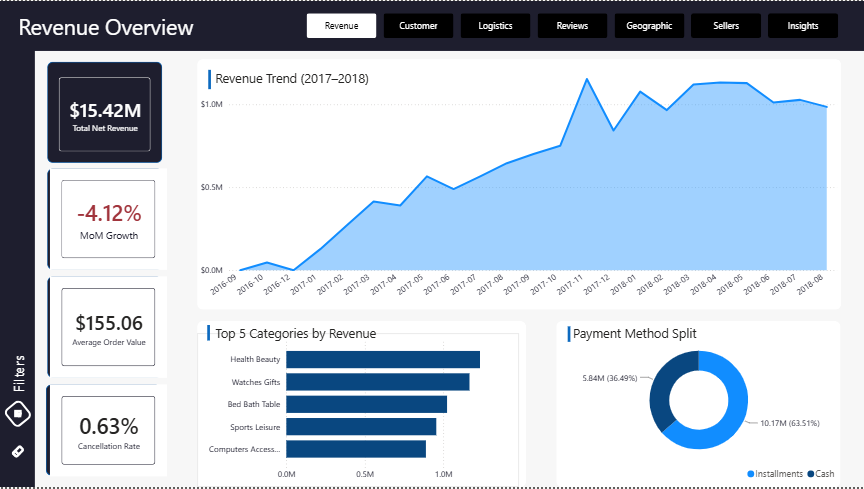

The page's visual inventory and layout, read from the dashboard file:
{"tool":"powerbi","page":{"name":"Revenue ","canvas":[1280,720],"ordinal":0},"visuals":[{"type":"shape","box":[0,0,51.7,720],"z":0,"group":"g1"},{"type":"textbox","box":[313.3,95.4,271.1,38.1],"z":0,"group":"g2"},{"type":"shape","box":[291.2,473.8,487.5,246.2],"z":0},{"type":"shape","box":[0,0,1280,74],"z":1000,"group":"g1"},{"type":"shape","box":[159.4,100.8,301,28.6],"z":1000,"group":"g2"},{"type":"shape","box":[823.8,473.8,421.2,246.2],"z":1000},{"type":"textbox","box":[22,10,322,54],"z":2000,"group":"g1"},{"type":"shape","box":[291.4,85.7,954.3,371.4],"z":2000},{"type":"shape","box":[68,567,170,135],"z":3000},{"type":"actionButton","box":[7.1,647.1,37.1,38.6],"z":3000,"group":"g1"},{"type":"shape","box":[69,408,170,150],"z":4000},{"type":"actionButton","box":[4.1,576.2,45,70.8],"z":4000,"group":"g1"},{"type":"pageNavigator","box":[454.3,18.6,791.4,37.1],"z":5000,"group":"g1"},{"type":"shape","box":[69,248,171,150],"z":5000},{"type":"actionButton","box":[5.4,508.1,42.2,88.5],"z":6000,"group":"g1"},{"type":"cardVisual","fields":{"Data":["olist_orders_dataset.Cancellation Rate %"]},"box":[73,567,173,136],"z":6000},{"type":"shape","box":[70.8,89.9,170.3,149.8],"z":7000},{"type":"cardVisual","fields":{"Data":["olist_orders_dataset.MoM Growth %"]},"box":[73,248,173,150],"z":8000},{"type":"cardVisual","fields":{"Data":["olist_orders_dataset.Total net review"]},"box":[69.5,95.4,170.3,144.4],"z":9000},{"type":"stackedAreaChart","fields":{"Category":["Dim_Date.Year Month"],"Y":["olist_orders_dataset.Total Net Revenue"]},"box":[291.5,89.9,953.5,367.8],"z":10000},{"type":"donutChart","fields":{"Category":["v_order_financials.peyment_method_group"],"Y":["Sum(v_order_financials.total_order_value)"]},"box":[824.1,493.1,422.3,227.5],"z":11000},{"type":"clusteredBarChart","fields":{"Y":["Fact_Orders.Total Net Revenue"],"Category":["product_category_name_translation.column2"]},"box":[291.5,493.1,476.8,227.5],"z":12000},{"type":"cardVisual","fields":{"Data":["olist_orders_dataset.Average Order Value"]},"box":[73,408,173,150],"z":13000},{"type":"textbox","box":[843.2,474,271.1,38.1],"z":14000},{"type":"shape","box":[166.2,480.8,286.1,23.2],"z":15000},{"type":"textbox","box":[313.3,474,271.1,38.1],"z":16000},{"type":"shape","box":[700.1,482.2,286.1,23.2],"z":17000},{"type":"group","id":"g1","title":"Group 2","box":[0,0,1280,720],"z":18000},{"type":"group","id":"g2","title":"Group 3","box":[159.4,95.4,425,38.1],"z":19000}]}

Visuals, with their boxes in screenshot pixels (x1, y1, x2, y2), scaled from the page's 1280x720 canvas onto the 864x489 screenshot:
shape: (0, 0, 35, 488)
textbox: (211, 65, 394, 91)
shape: (197, 322, 526, 488)
shape: (0, 0, 863, 50)
shape: (108, 68, 311, 88)
shape: (556, 322, 840, 488)
textbox: (15, 7, 232, 43)
shape: (197, 58, 841, 310)
shape: (46, 385, 161, 477)
actionButton: (5, 439, 30, 466)
shape: (47, 277, 161, 379)
actionButton: (3, 391, 33, 439)
pageNavigator: (307, 13, 841, 38)
shape: (47, 168, 162, 270)
actionButton: (4, 345, 32, 405)
cardVisual - olist_orders_dataset.Cancellation Rate %: (49, 385, 166, 477)
shape: (48, 61, 163, 163)
cardVisual - olist_orders_dataset.MoM Growth %: (49, 168, 166, 270)
cardVisual - olist_orders_dataset.Total net review: (47, 65, 162, 163)
stackedAreaChart - Dim_Date.Year Month x olist_orders_dataset.Total Net Revenue: (197, 61, 840, 311)
donutChart - v_order_financials.peyment_method_group x Sum(v_order_financials.total_order_value): (556, 335, 841, 488)
clusteredBarChart - Fact_Orders.Total Net Revenue x product_category_name_translation.column2: (197, 335, 519, 488)
cardVisual - olist_orders_dataset.Average Order Value: (49, 277, 166, 379)
textbox: (569, 322, 752, 348)
shape: (112, 327, 305, 342)
textbox: (211, 322, 394, 348)
shape: (473, 327, 666, 343)
"Group 2" group: (0, 0, 863, 488)
"Group 3" group: (108, 65, 394, 91)
